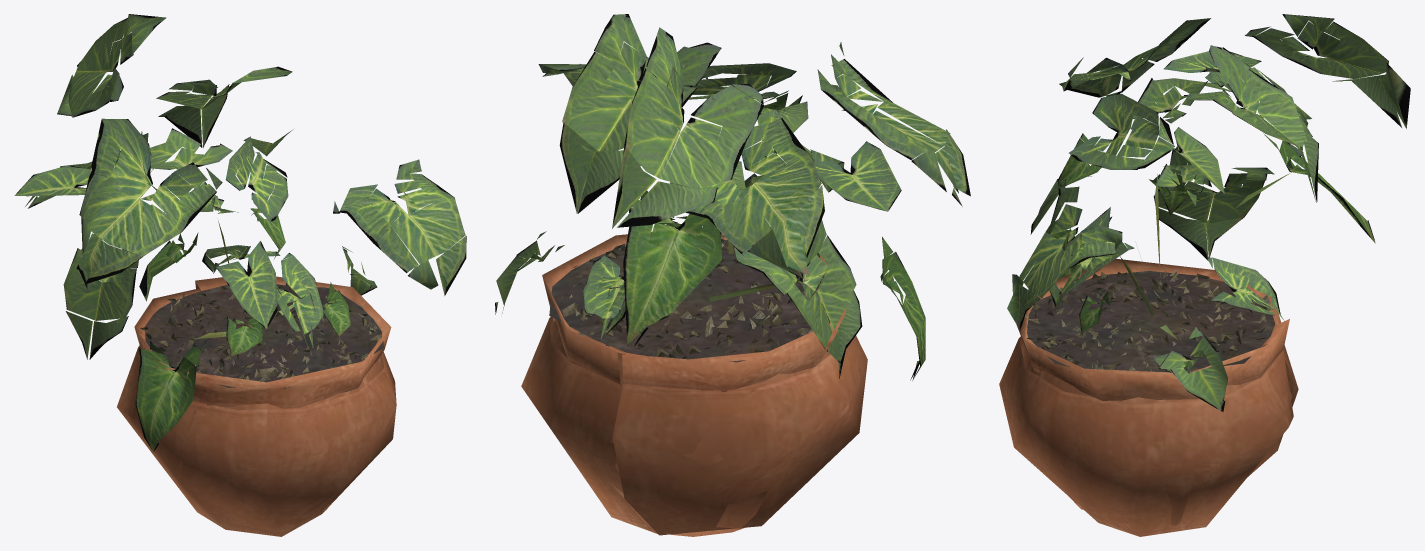
File: ph_potted_plant_02.glb
The picture shows the model from 3 angles, left to right: view 1: azimuth 30°, elevation 25°; view 2: azimuth 150°, elevation 25°; view 3: azimuth 270°, elevation 25°; orthographic projection. The views are drawn at different scales.
Parts seen in each view (by area): view 1: potted_plant_02_pot; view 2: potted_plant_02_pot; view 3: potted_plant_02_pot.
Part boxes in pixels (bbox=[...]): potted_plant_02_pot: bbox=[14, 14, 466, 536]; potted_plant_02_pot: bbox=[495, 14, 970, 536]; potted_plant_02_pot: bbox=[999, 14, 1410, 536].
Size of the model in its own units: 0.6982 by 0.8448 by 0.6616.
Materials: 2 (2 with a texture image).
